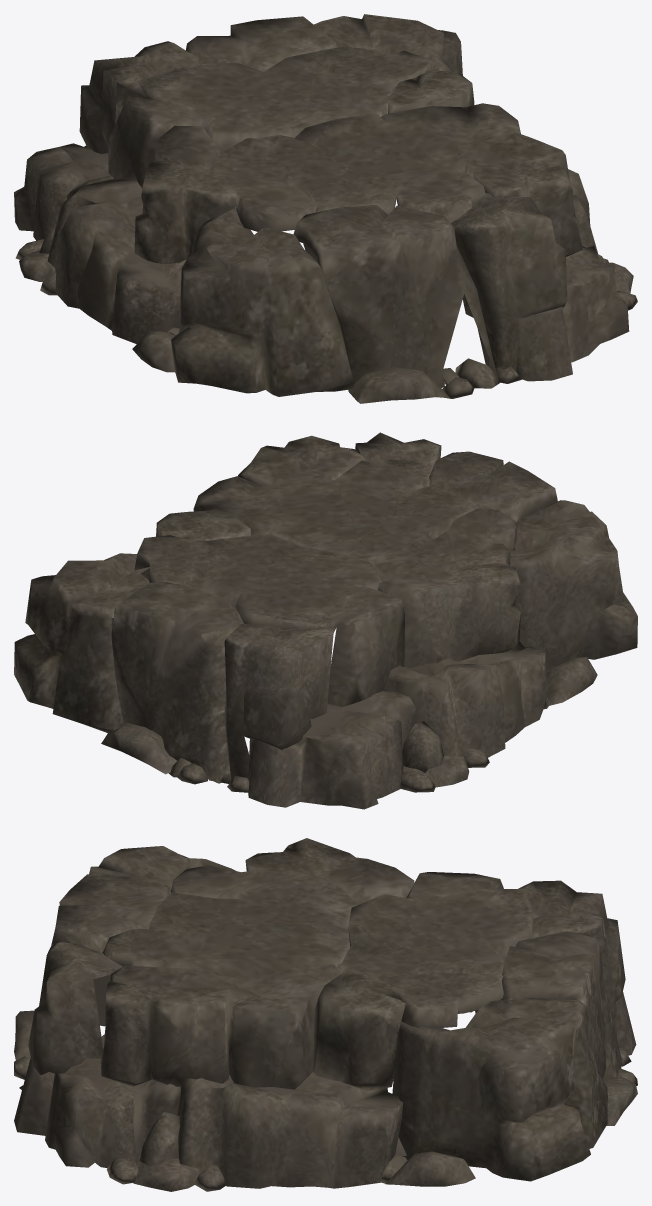
File: x_rock_single_C.glb
3 views of the same model, one above another, from view 1: azimuth 30°, elevation 25°; view 2: azimuth 150°, elevation 25°; view 3: azimuth 270°, elevation 25° (orthographic). The views are drawn at different scales.
Visible parts, largest first — view 1: x_rock_single_C; view 2: x_rock_single_C; view 3: x_rock_single_C.
Boxes of the visible parts, x1,y1,x2,y2 form: x_rock_single_C: [14, 14, 637, 403]; x_rock_single_C: [14, 432, 637, 809]; x_rock_single_C: [14, 838, 637, 1191].
Size of the model in its own units: 0.3439 by 0.1077 by 0.3845.
1 material, 1 textured.
